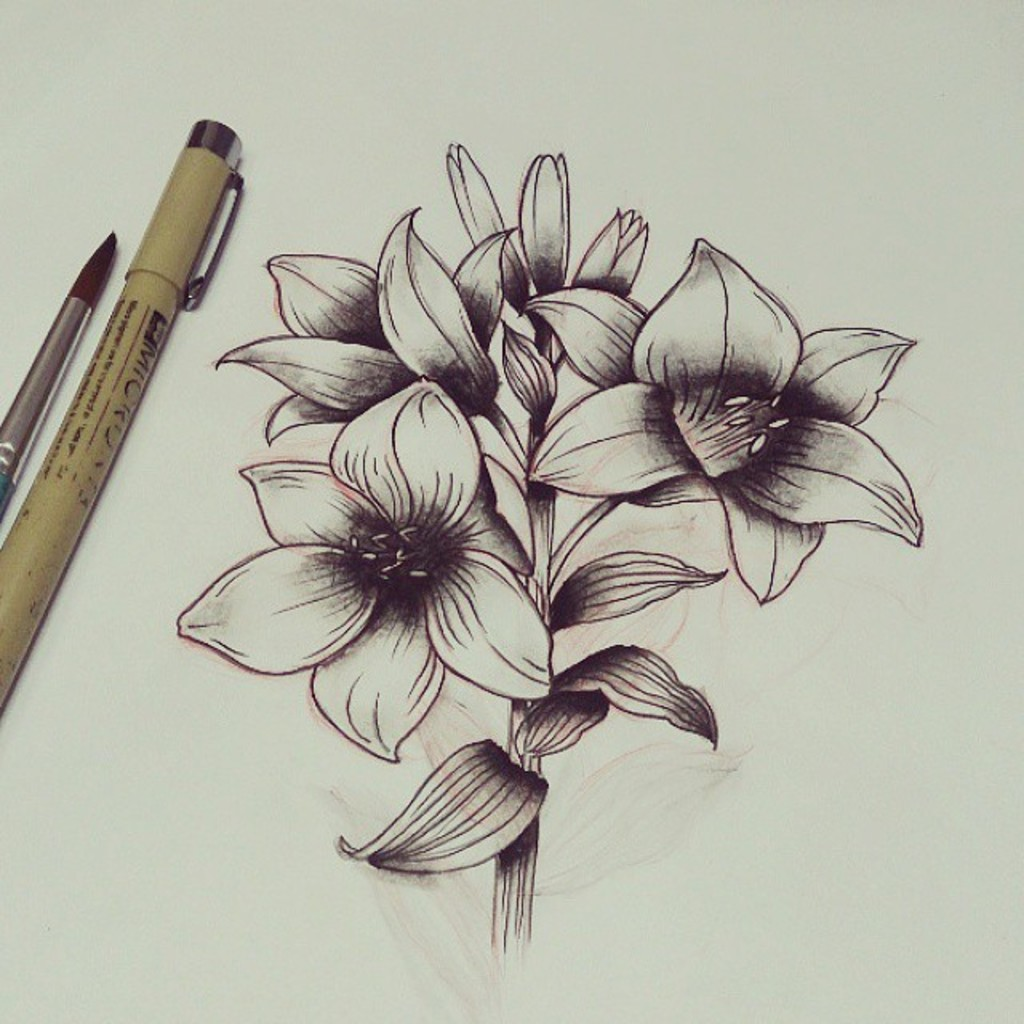Pen: (0, 112, 267, 718), (0, 222, 113, 516)
